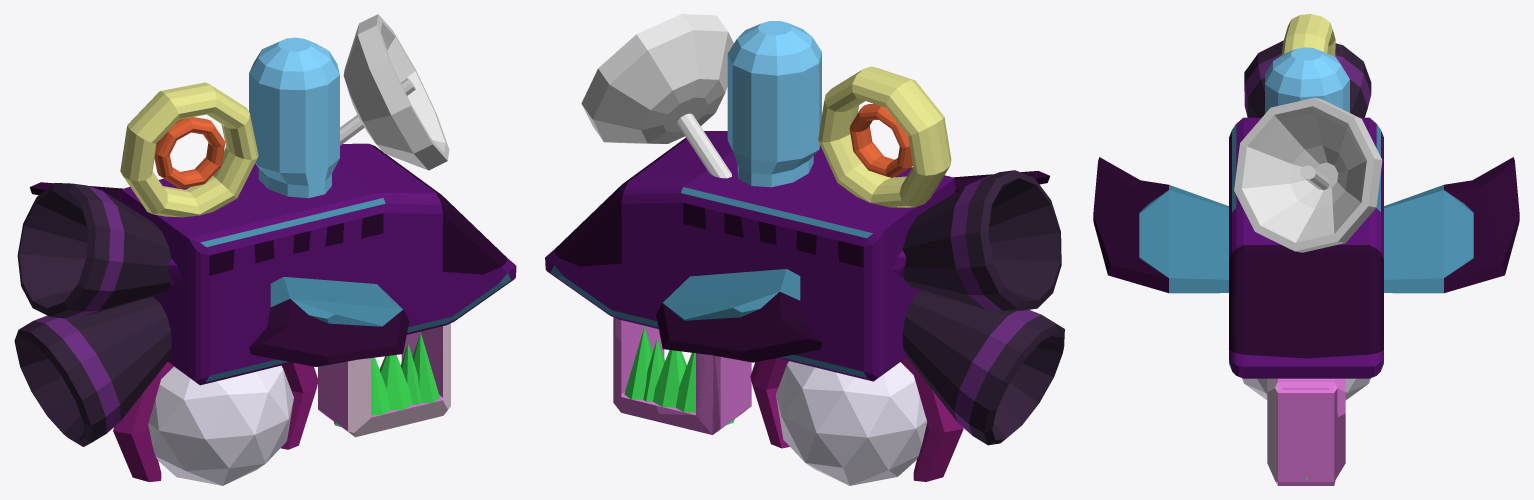
The model's file is spaceship3.fbx.
3 renders of one model, left to right at view 1: azimuth 30°, elevation 25°; view 2: azimuth 150°, elevation 25°; view 3: azimuth 270°, elevation 25°, orthographic. The views are drawn at different scales.
Visible parts, largest first — view 1: baseship, thrusterupper, thrusterlower, cockpit, Container.001, WaterTank, generator, wings, satellite, garden, garden_broken, Container (+9 smaller); view 2: baseship, thrusterupper, thrusterlower, cockpit, satellite, WaterTank, Container.001, generator, wings, garden, Container, garden_broken (+9 smaller); view 3: wings, cockpit, satellite, cockpit_broken, garden, WaterTank, wings_broken, thrusterupper, satellite_broken, generator, baseship, garden_broken (+3 smaller).
Part boxes in pixels (x1,y1,x2,y2): baseship: [120, 163, 385, 385]; thrusterupper: [17, 183, 170, 318]; thrusterlower: [14, 297, 171, 446]; cockpit: [337, 143, 516, 334]; Container.001: [148, 365, 293, 485]; WaterTank: [249, 37, 339, 198]; generator: [120, 82, 258, 217]; wings: [29, 182, 409, 366]; satellite: [340, 14, 449, 170]; garden: [333, 323, 450, 436]; garden_broken: [318, 326, 445, 437]; Container: [113, 361, 318, 481]; baseship: [681, 146, 955, 381]; thrusterupper: [902, 170, 1061, 310]; thrusterlower: [902, 290, 1064, 445]; cockpit: [545, 131, 732, 328]; satellite: [581, 14, 733, 178]; WaterTank: [727, 21, 821, 187]; Container.001: [776, 361, 927, 485]; generator: [818, 66, 951, 207]; wings: [656, 171, 1049, 362]; garden: [613, 317, 747, 434]; Container: [750, 357, 963, 481]; garden_broken: [615, 318, 751, 434]; wings: [1093, 157, 1519, 293]; cockpit: [1229, 205, 1383, 378]; satellite: [1234, 98, 1382, 252]; cockpit_broken: [1229, 250, 1383, 378]; garden: [1267, 378, 1345, 485]; WaterTank: [1265, 47, 1349, 113]; wings_broken: [1139, 190, 1473, 277]; thrusterupper: [1244, 40, 1371, 117]; satellite_broken: [1247, 108, 1380, 206]; generator: [1282, 14, 1335, 56]; baseship: [1229, 117, 1383, 216]; garden_broken: [1267, 378, 1345, 416].
Bounding box in the file's own units: 629 × 558 × 551.
